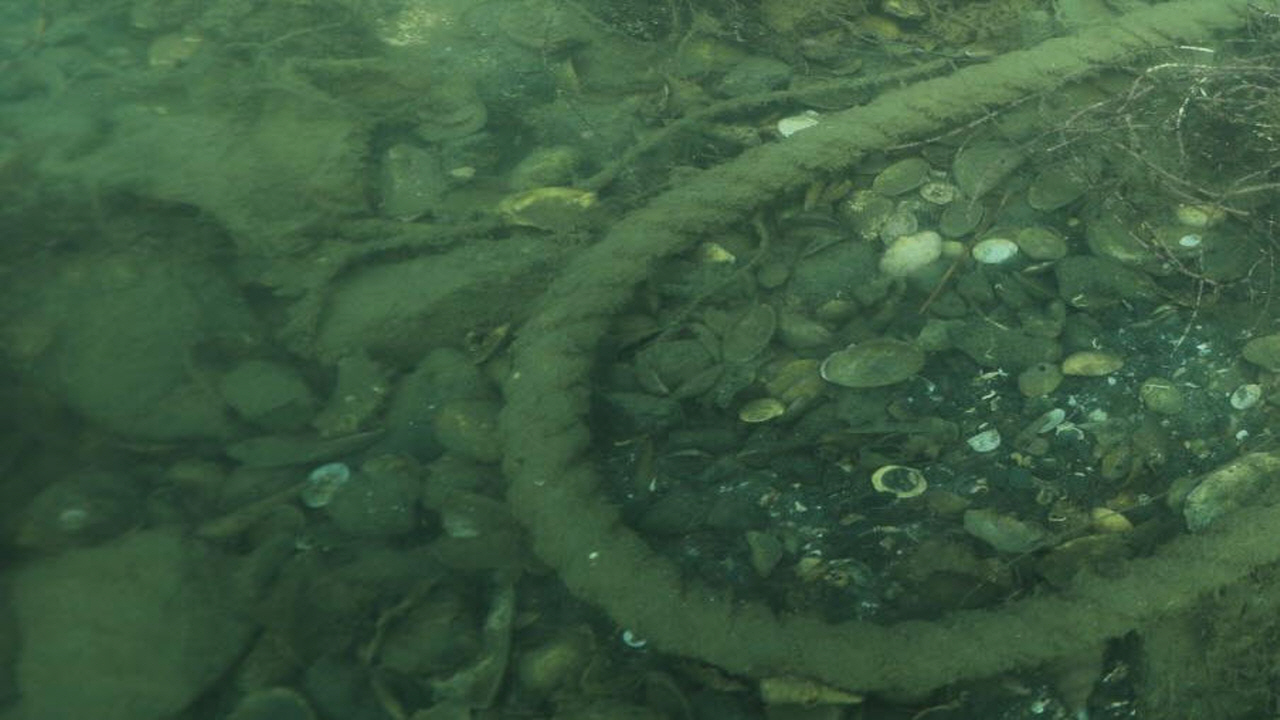rope: (495, 0, 1280, 697)
